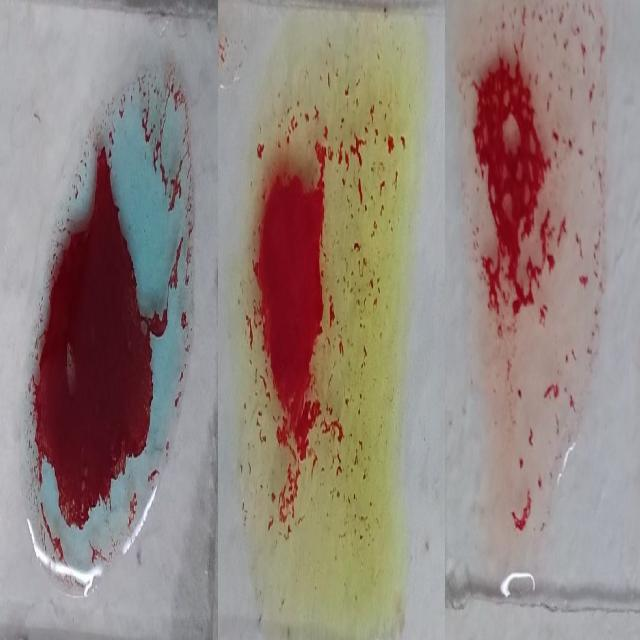A: (36, 48, 190, 578)
B: (232, 30, 394, 606)
D: (458, 12, 608, 545)
